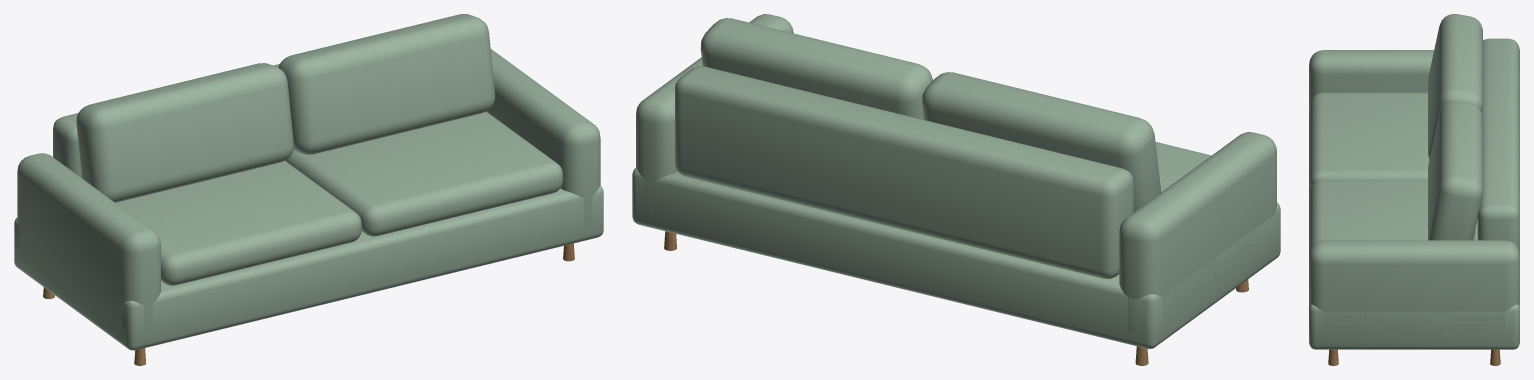
File: sofa.glb
3 renders of one model, left to right at view 1: azimuth 30°, elevation 25°; view 2: azimuth 150°, elevation 25°; view 3: azimuth 270°, elevation 25°, orthographic. The views are drawn at different scales.
Parts seen in each view (by area): view 1: sofa; view 2: sofa; view 3: sofa.
Boxes of the visible parts, box(x1,y1,x2,y2) form: sofa: box(14, 14, 603, 365); sofa: box(632, 14, 1280, 365); sofa: box(1309, 14, 1519, 365).
Bounding box in the file's own units: 2.2 × 0.8729 × 0.9499.
Materials: 2 (2 with a texture image).
